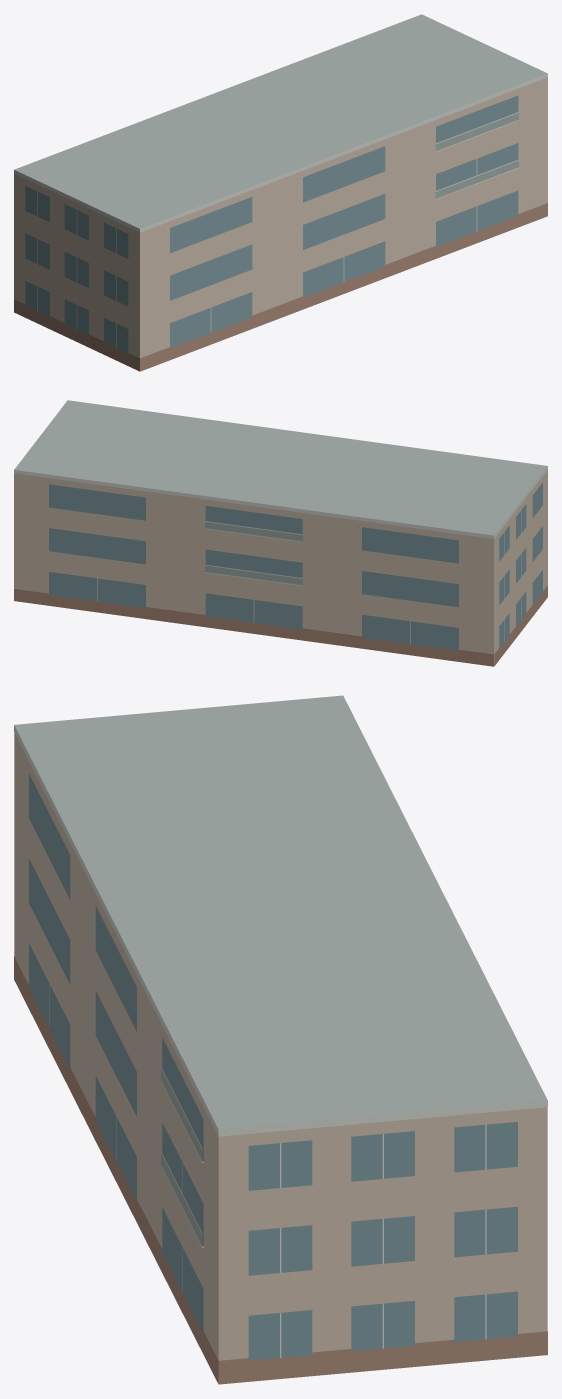
The model's file is survey-upis-32987231.glb.
3 views of the same model, one above another, from view 1: azimuth 30°, elevation 25°; view 2: azimuth 150°, elevation 25°; view 3: azimuth 270°, elevation 25° (orthographic). The views are drawn at different scales.
Parts seen in each view (by area): view 1: survey-upis-32987231.tmp; view 2: survey-upis-32987231.tmp; view 3: survey-upis-32987231.tmp.
Boxes of the visible parts, x1,y1,x2,y2 form: survey-upis-32987231.tmp: (14,14,547,371); survey-upis-32987231.tmp: (14,400,547,666); survey-upis-32987231.tmp: (14,695,547,1384).
Bounding box in the file's own units: 33.49 × 9.15 × 17.39.
